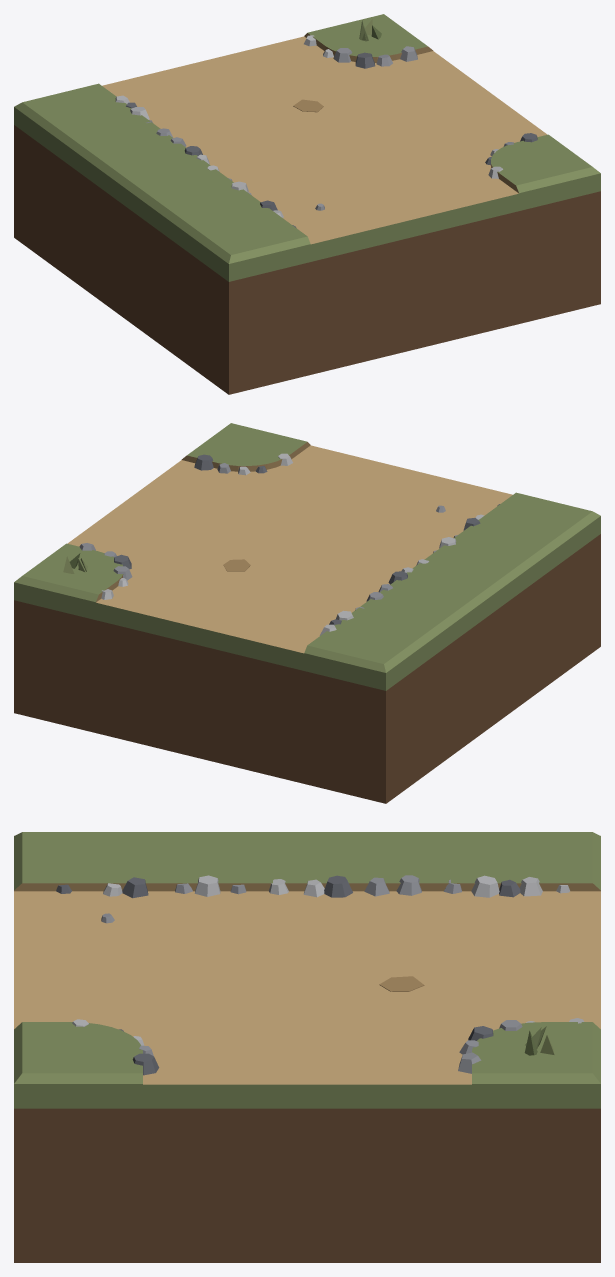
Rendered from Road T.fbx.
The picture shows the model from 3 angles, top to bottom: view 1: azimuth 30°, elevation 25°; view 2: azimuth 150°, elevation 25°; view 3: azimuth 270°, elevation 25°; orthographic projection. The views are drawn at different scales.
Visible parts, largest first — view 1: Road T; view 2: Road T; view 3: Road T.
Part boxes in pixels (x1,y1,x2,y2): Road T: [14, 14, 600, 394]; Road T: [14, 423, 600, 803]; Road T: [14, 832, 600, 1262].
Size of the model in its own units: 1 by 0.3905 by 1.
